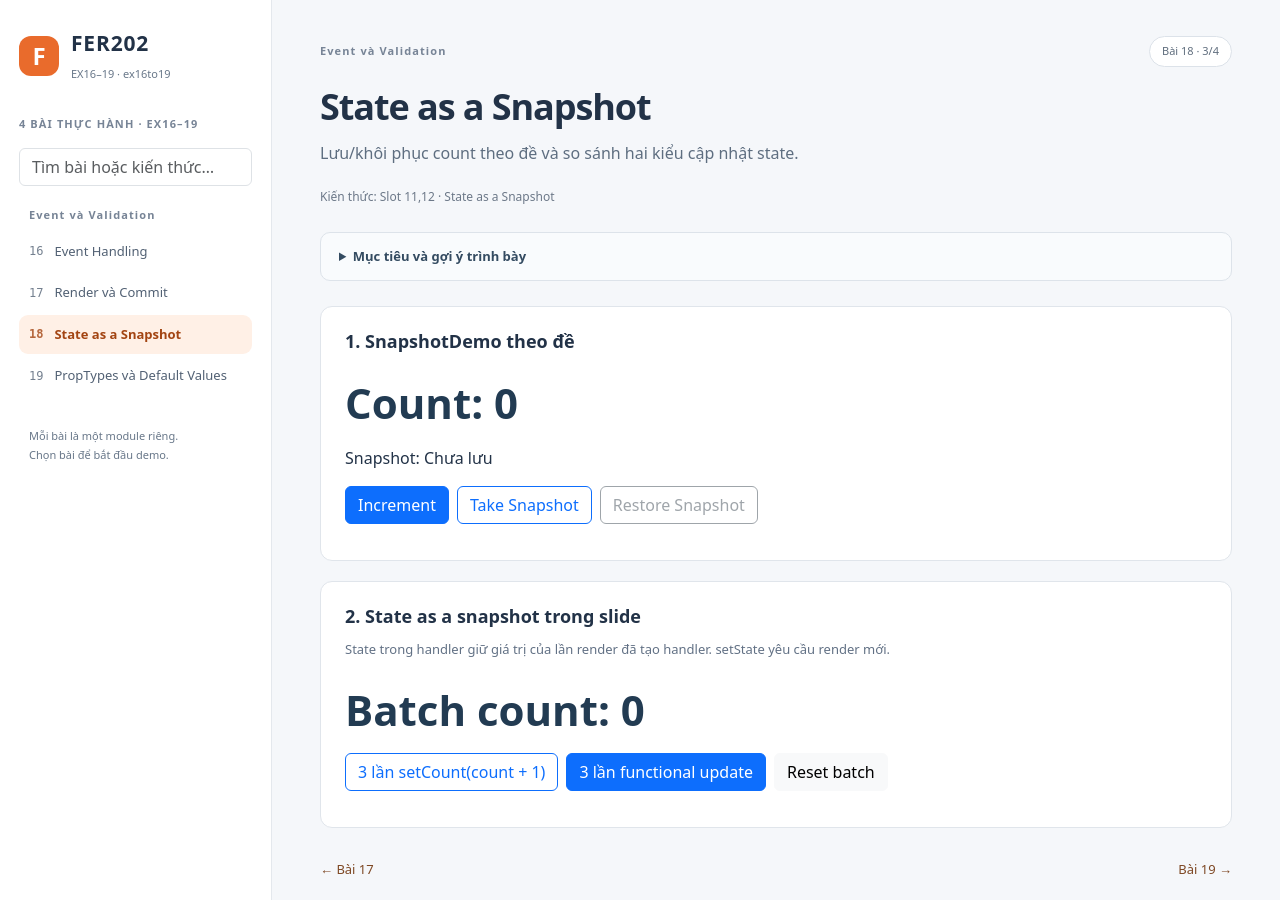
it: bài 18: snapshot 0 vẫn restore được và batch updates khác nhau
Expected: the button "Restore Snapshot" is disabled, [600,486,758,524]
What coordinates should you click on to do the following:
click the button "Take Snapshot"
I would click on:
 (524, 505)
Its box is [457,486,592,524].
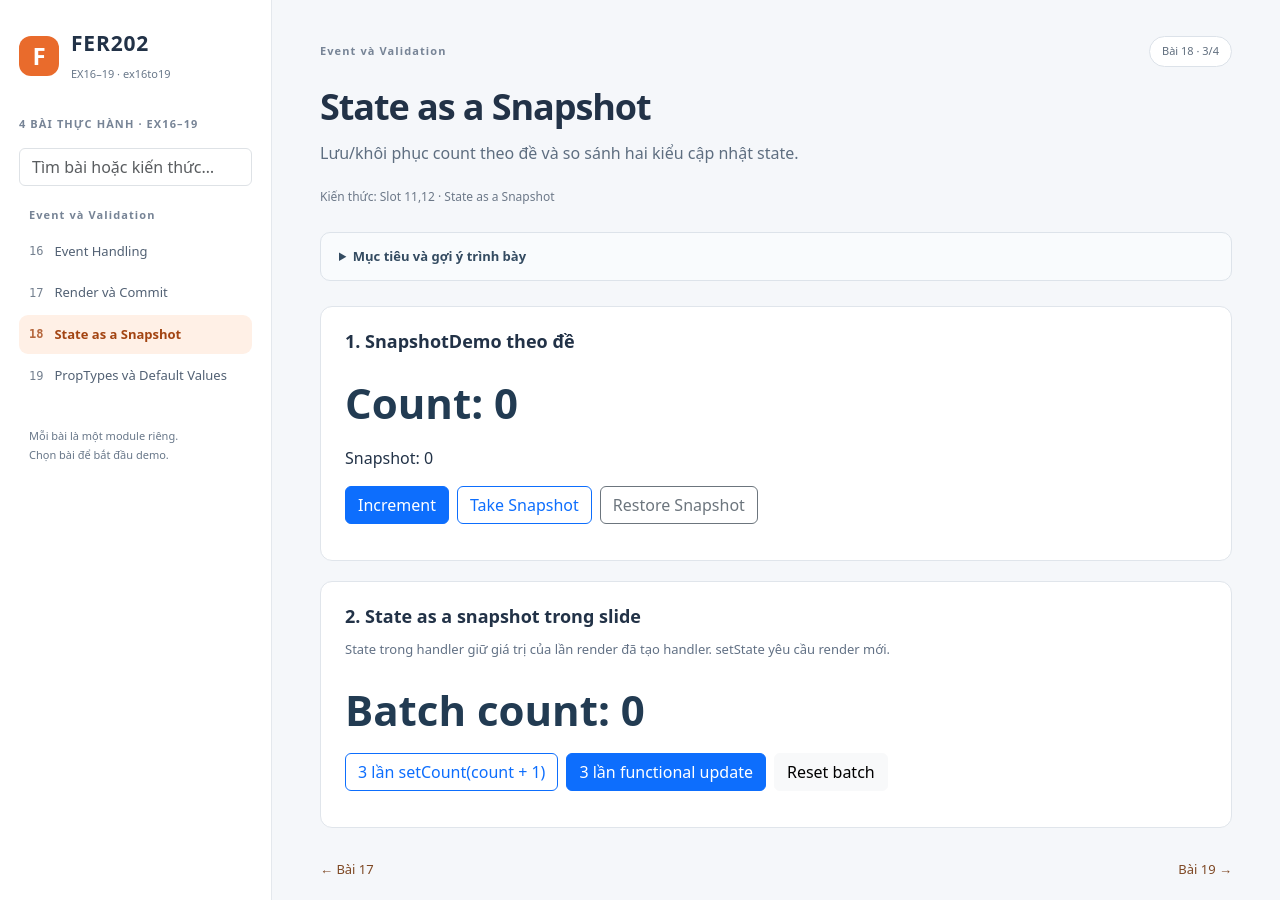
What coordinates should you click on to do the following:
click the button "Increment"
I would click on:
 (397, 505)
Its box is [345,486,449,524].
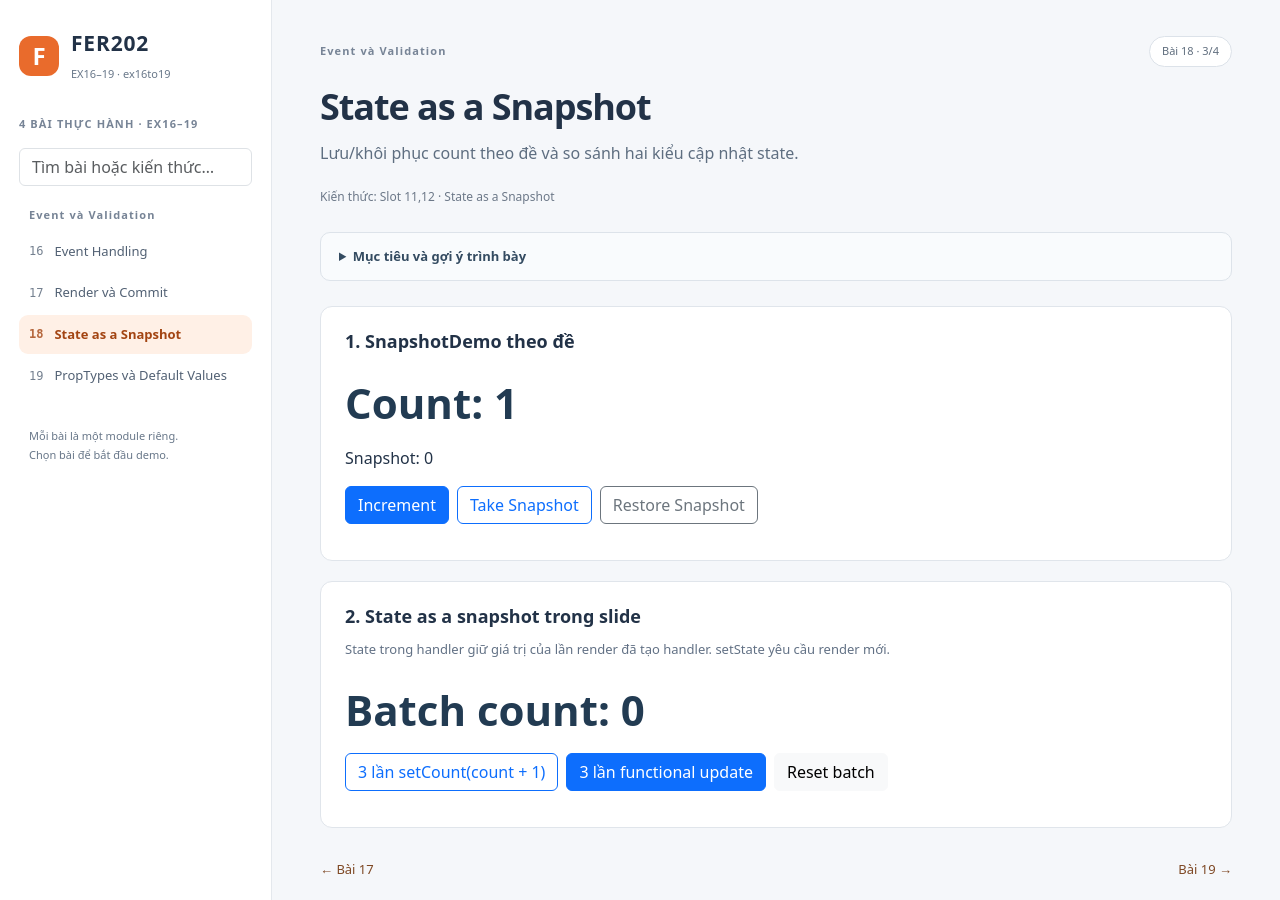
What coordinates should you click on to do the following:
click the button "Restore Snapshot"
I would click on:
 (679, 505)
Its box is [600,486,758,524].
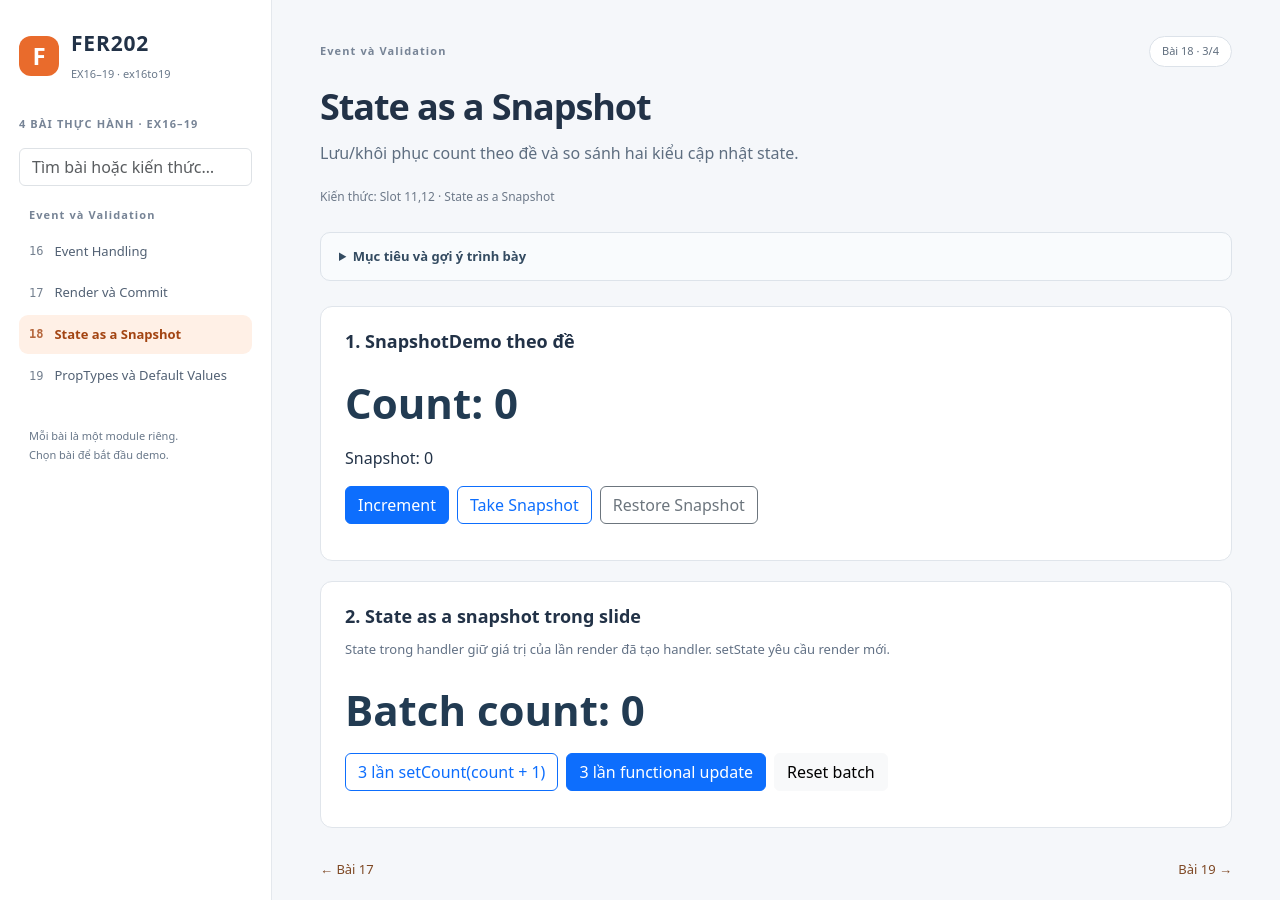
Now the text "Count: 0" is shown, box [345,374,518,431]
What coordinates should you click on to do the following:
click the button "3 lần setCount(count + 1)"
I would click on:
 (452, 772)
Its box is [345,753,558,791].
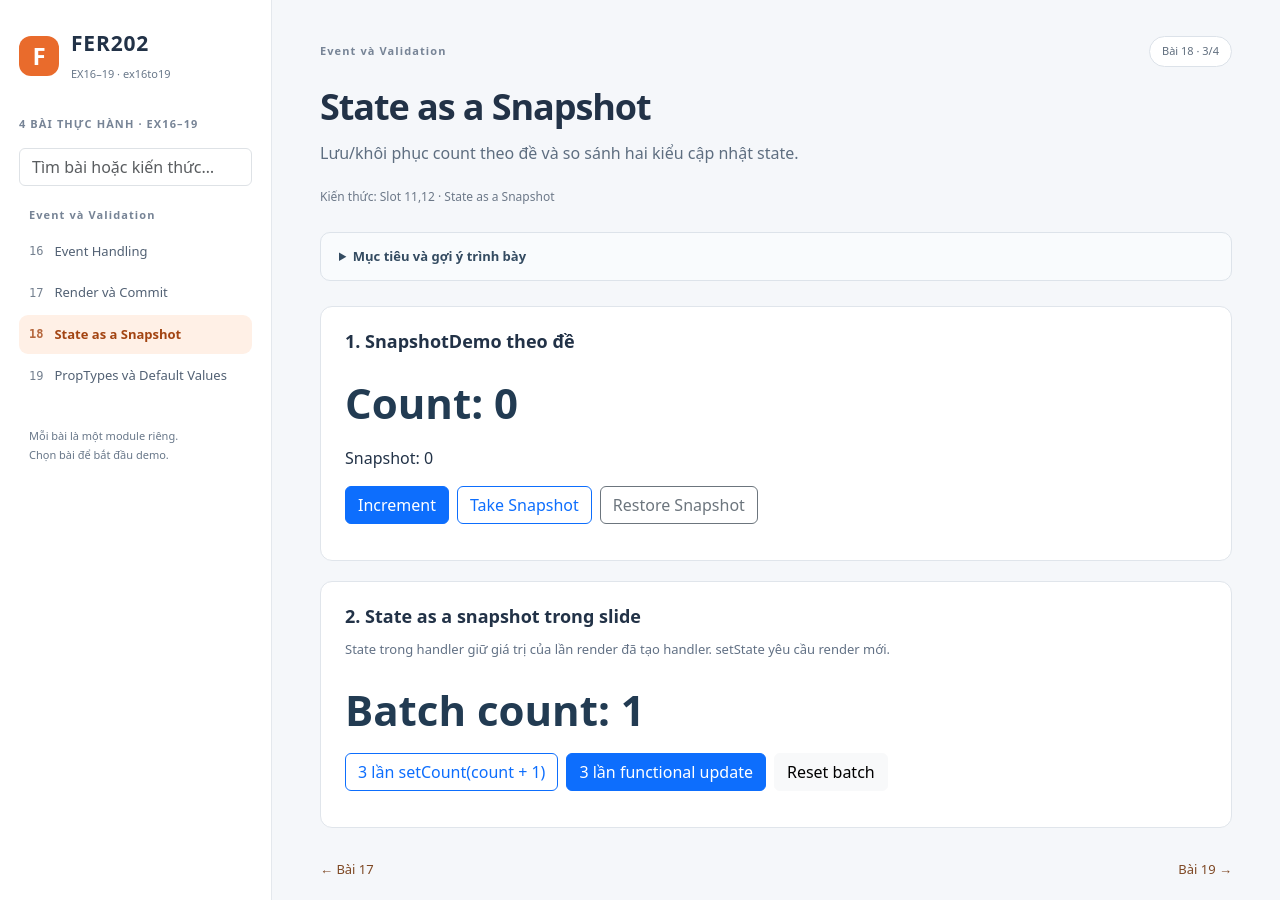
Now the text "Batch count: 1" is shown, box [345,681,645,738]
What coordinates should you click on to do the following:
click the button "3 lần functional update"
I would click on:
 (666, 772)
Its box is [566,753,766,791].
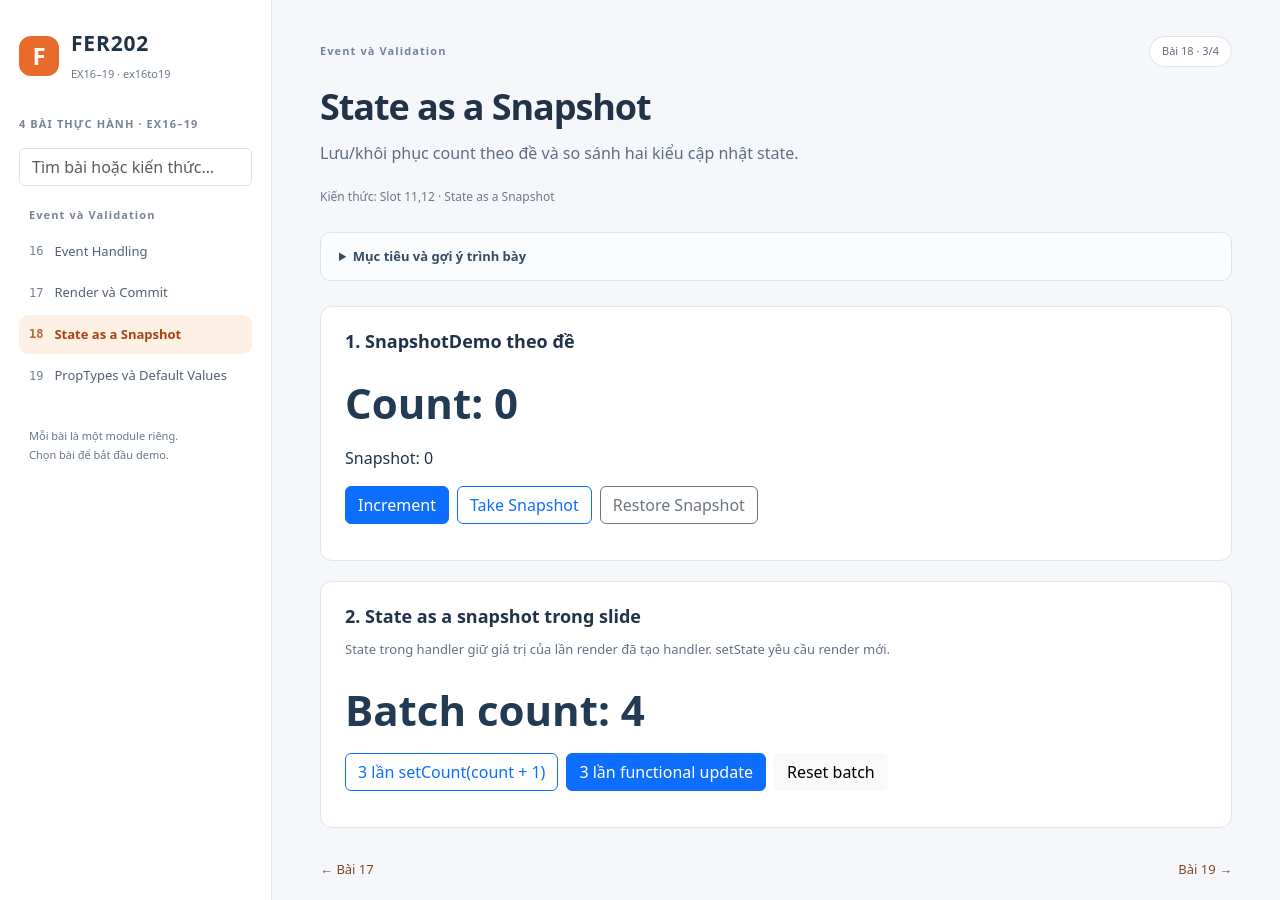
Now the text "Batch count: 4" is shown, box [345,681,645,738]
